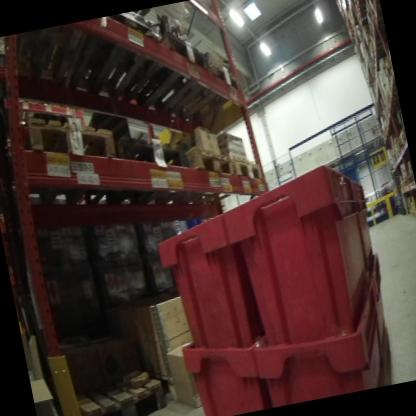pallet: (15, 94, 132, 214), (70, 9, 180, 113), (122, 22, 227, 129), (159, 44, 258, 142), (90, 124, 191, 220), (15, 19, 115, 104), (158, 134, 241, 214), (60, 359, 176, 416), (196, 147, 275, 220), (362, 3, 381, 31), (406, 170, 415, 186), (402, 175, 410, 189), (413, 207, 416, 223)
small_load_carrier: (227, 163, 380, 354), (154, 195, 260, 368), (247, 302, 387, 403), (172, 325, 270, 416), (342, 156, 389, 290), (354, 243, 402, 352)
